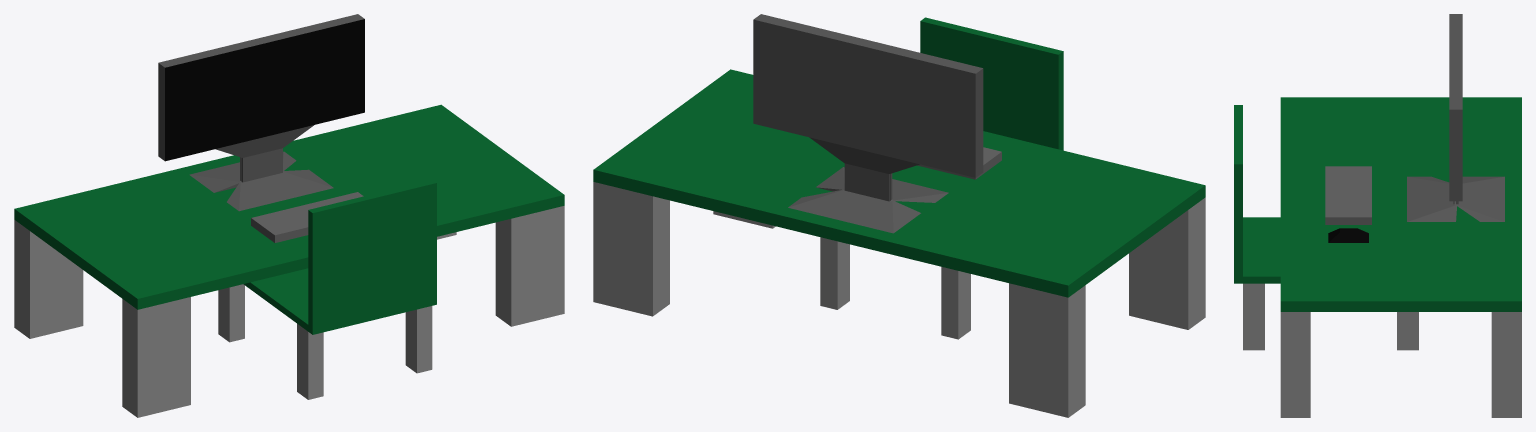
Rendered from RoomProps_2.fbx.
3 renders of one model, left to right at view 1: azimuth 30°, elevation 25°; view 2: azimuth 150°, elevation 25°; view 3: azimuth 270°, elevation 25°, orthographic. The views are drawn at different scales.
Visible parts, largest first — view 1: Tisch, Monitor, Stuhl, Keyboard; view 2: Tisch, Monitor, Stuhl; view 3: Tisch, Monitor, Stuhl, Keyboard, Mouse.
Part boxes in pixels (x1,y1,x2,y2): Tisch: (14, 104, 564, 417); Monitor: (158, 14, 364, 211); Stuhl: (218, 179, 436, 399); Keyboard: (251, 192, 363, 242); Tisch: (593, 69, 1205, 417); Monitor: (753, 14, 983, 233); Stuhl: (820, 17, 1063, 339); Tisch: (1280, 97, 1521, 417); Monitor: (1407, 14, 1504, 221); Stuhl: (1234, 105, 1418, 350); Keyboard: (1325, 166, 1371, 224); Mouse: (1328, 228, 1368, 242).
Bounding box in the file's own units: 800 × 473 × 477.
